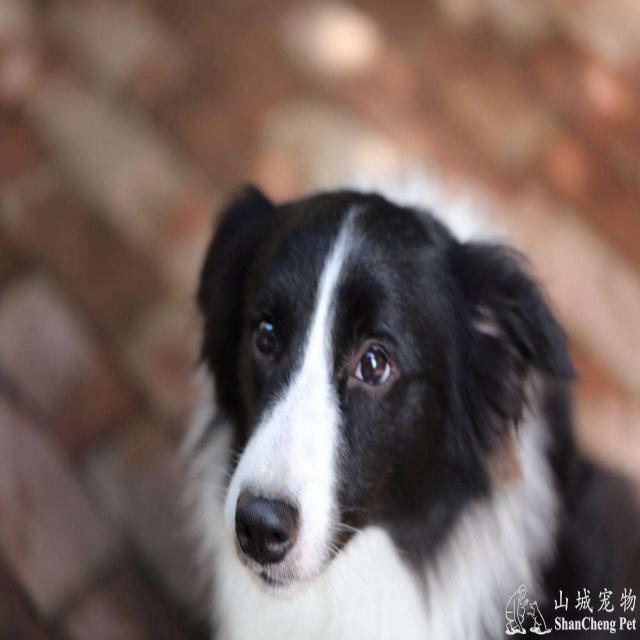eye: (350, 336, 396, 392), (252, 308, 284, 364)
